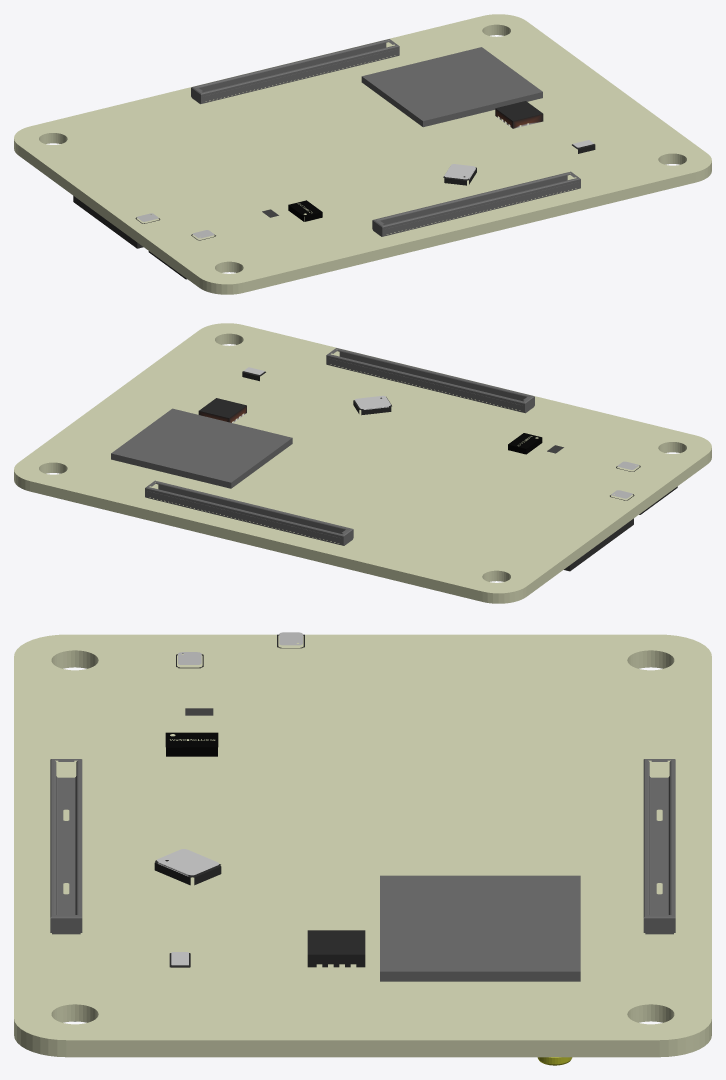
Rendered from companion.glb.
3 renders of one model, top to bottom at view 1: azimuth 30°, elevation 25°; view 2: azimuth 150°, elevation 25°; view 3: azimuth 270°, elevation 25°, orthographic. The views are drawn at different scales.
Parts seen in each view (by area): view 1: world; view 2: world; view 3: world.
Part boxes in pixels (x1,y1,x2,y2): world: (14,14,711,294); world: (14,323,711,603); world: (14,632,711,1065).
Size of the model in its own units: 0.055 by 0.00462 by 0.04.
